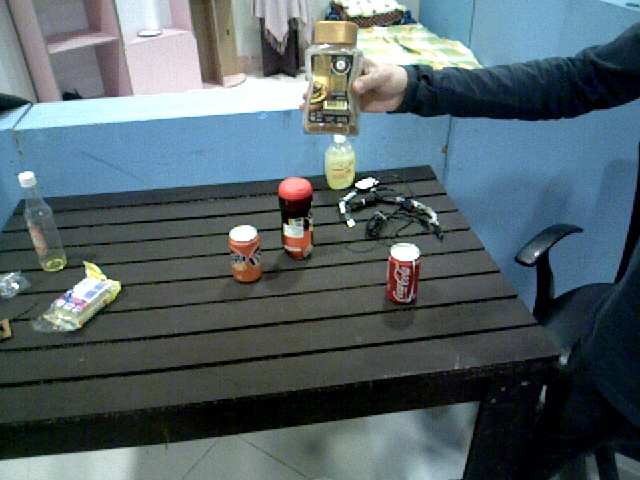coca: (385, 243, 421, 305)
coffee: (303, 22, 360, 137)
cream: (278, 178, 316, 264)
fanta: (229, 224, 263, 286)
